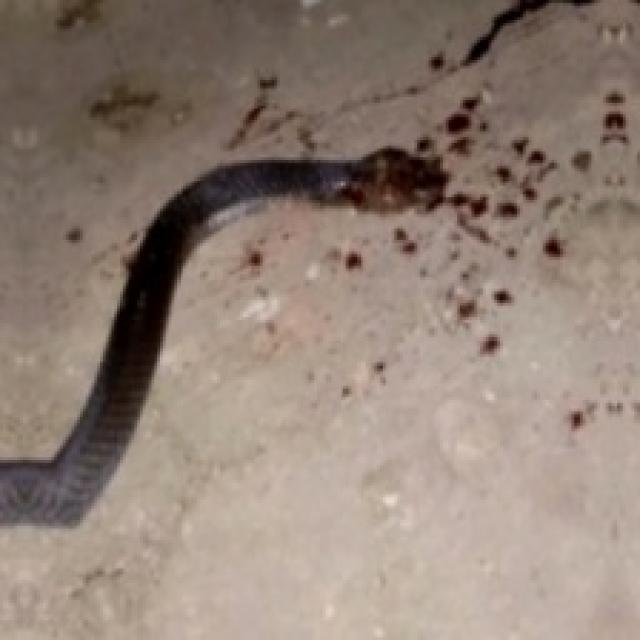king cobra: (0, 149, 443, 523)
